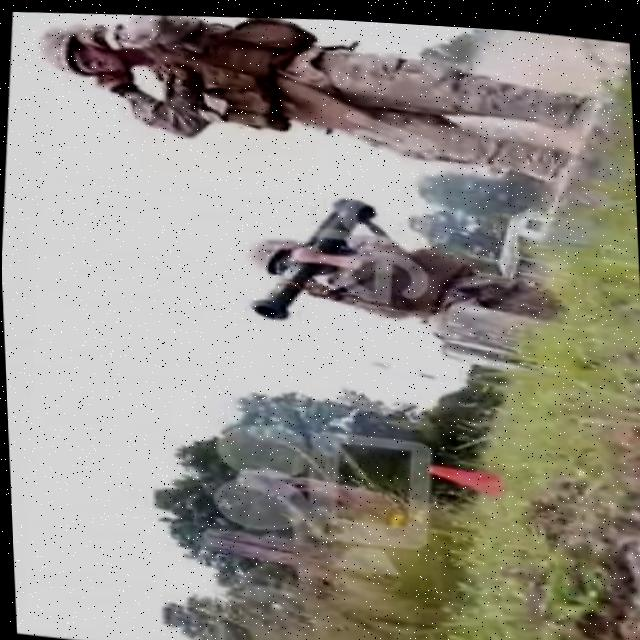rocket: (243, 176, 386, 328)
